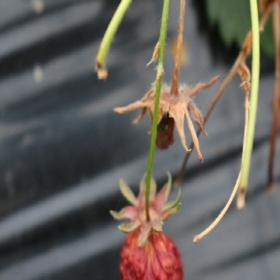Gray Mold: (113, 74, 220, 163)
